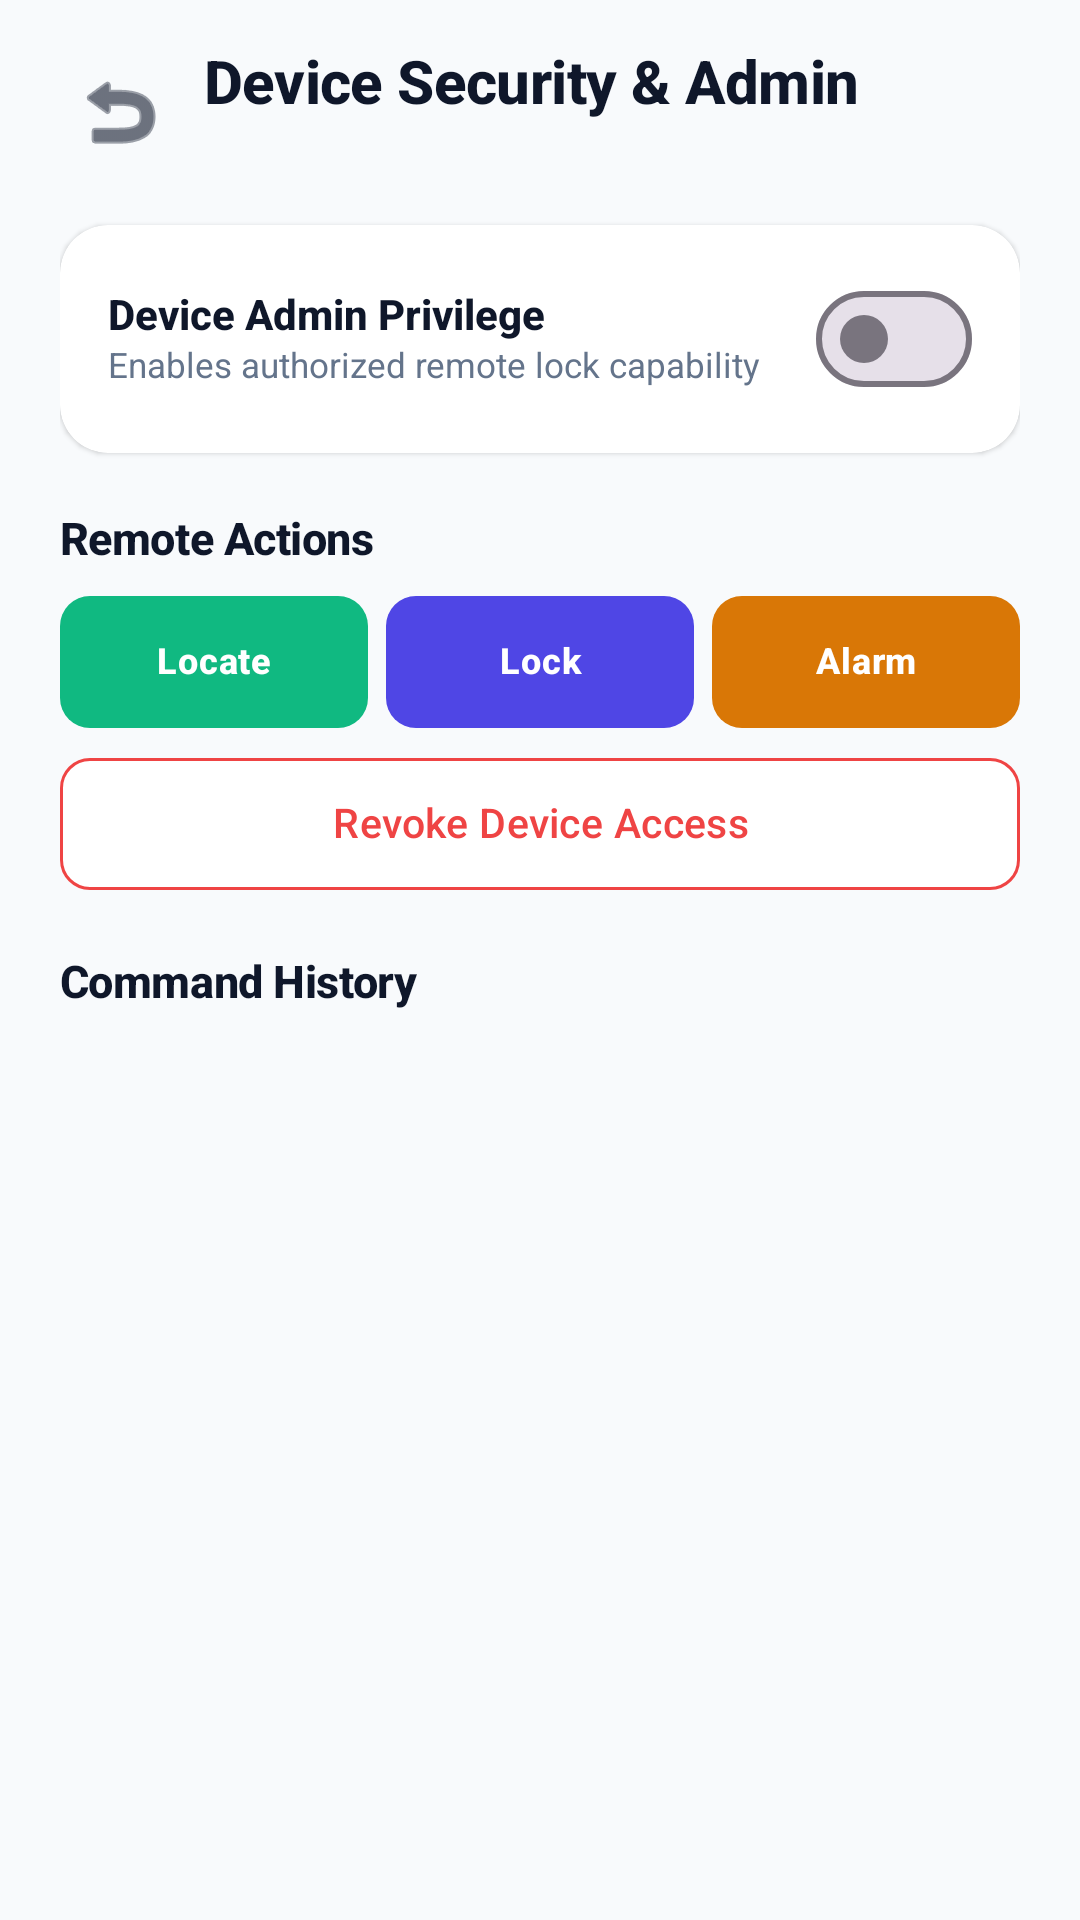

Screen size 1080×1920. Icon name, then its box in pixels as (x1, y1, x2, y2):
Back: (87, 81, 156, 144)
